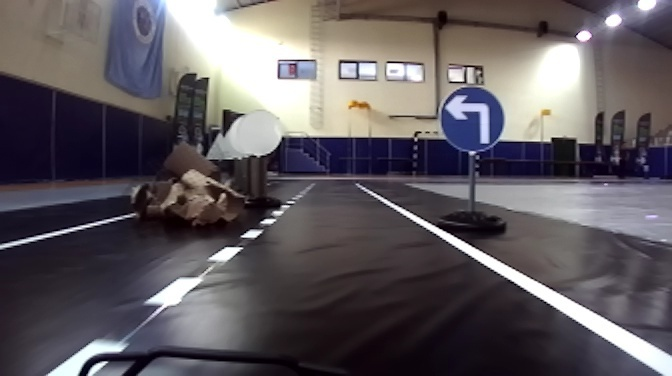sola_donus: (437, 83, 507, 151)
